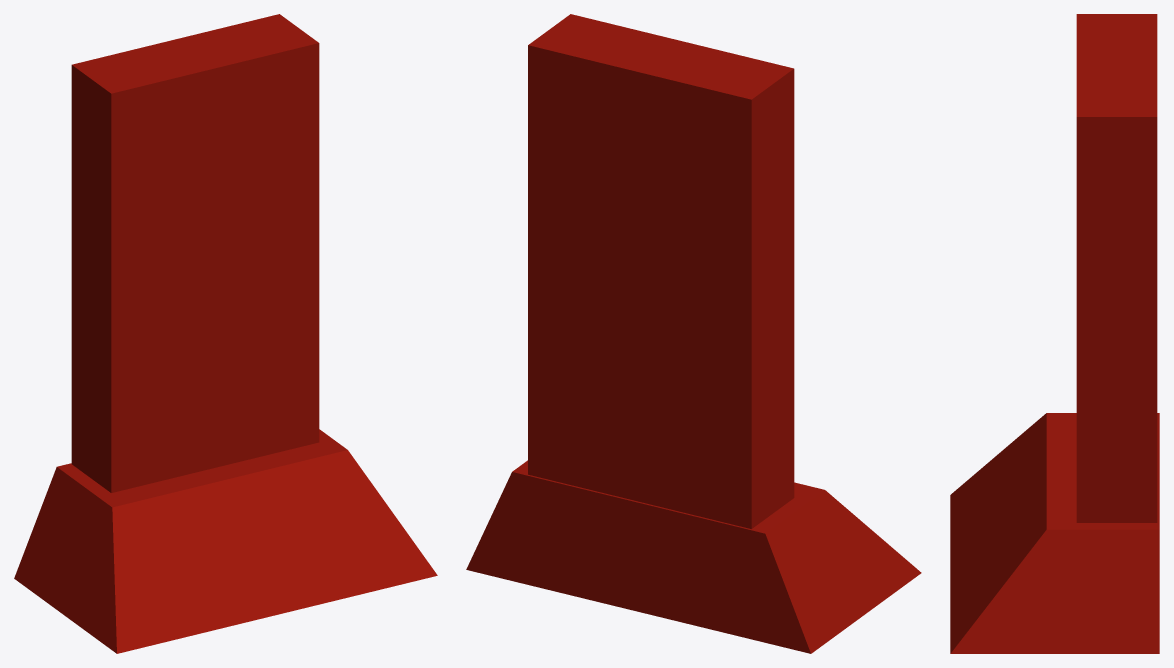
Rendered from P_Hotte_Colored_Unbreakable.fbx.
The picture shows the model from 3 angles, left to right: view 1: azimuth 30°, elevation 25°; view 2: azimuth 150°, elevation 25°; view 3: azimuth 270°, elevation 25°; orthographic projection. The views are drawn at different scales.
Visible parts, largest first — view 1: P_Hotte_Colored_Unbreakable; view 2: P_Hotte_Colored_Unbreakable; view 3: P_Hotte_Colored_Unbreakable.
Part boxes in pixels (x1,y1,x2,y2): P_Hotte_Colored_Unbreakable: [14, 14, 437, 653]; P_Hotte_Colored_Unbreakable: [466, 14, 921, 653]; P_Hotte_Colored_Unbreakable: [950, 14, 1159, 653].
Size of the model in its own units: 94.59 by 143 by 52.57.
